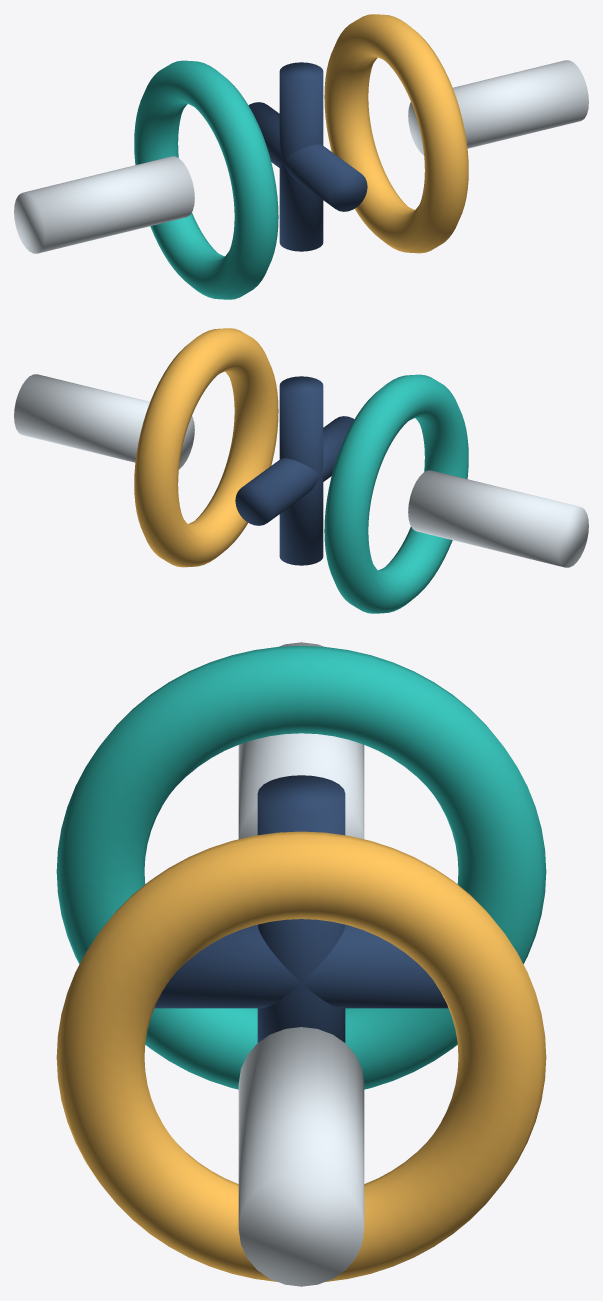
File: universal-joint-quality.glb
The picture shows the model from 3 angles, top to bottom: view 1: azimuth 30°, elevation 25°; view 2: azimuth 150°, elevation 25°; view 3: azimuth 270°, elevation 25°; orthographic projection. The views are drawn at different scales.
Visible parts, largest first — view 1: Input; view 2: Input; view 3: Input.
Boxes of the visible parts, <box> form: Input: <box>14,14,588,299</box>; Input: <box>14,328,588,613</box>; Input: <box>56,642,546,1286</box>.
Size of the model in its own units: 2 by 0.78 by 0.78.
